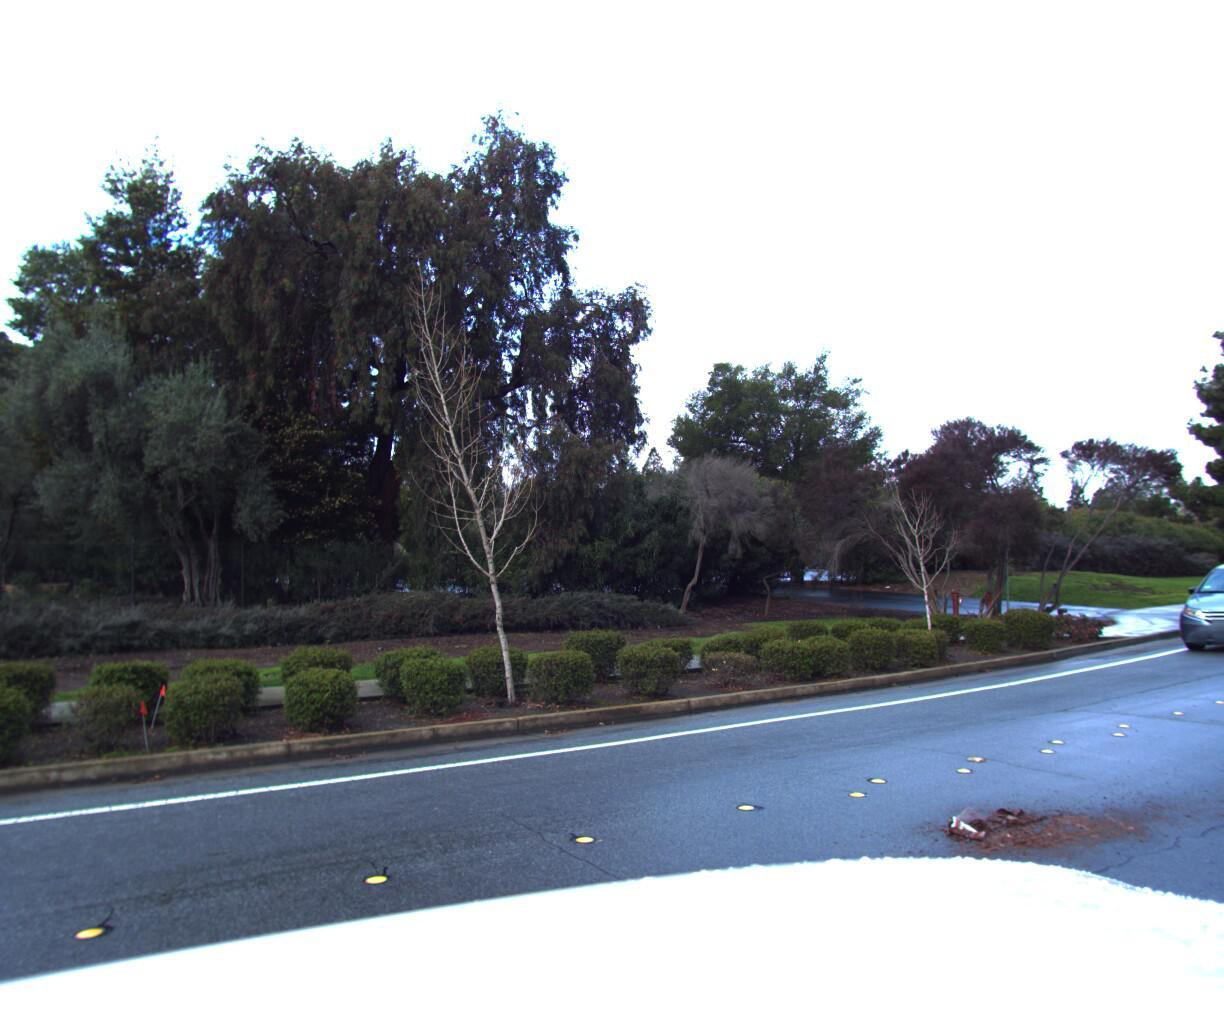car: (1166, 554, 1224, 656)
